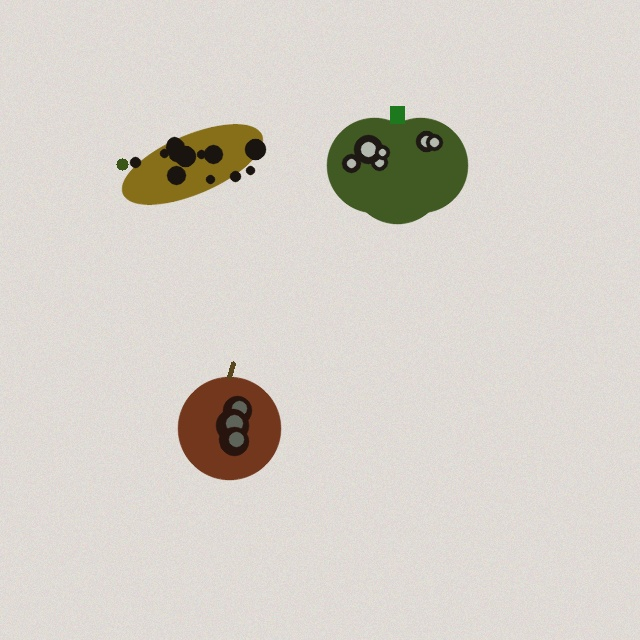Rotten apple: (178, 363, 280, 479)
Rotten banana: (114, 128, 270, 200)
Rotten bell pepper: (327, 106, 467, 223)
